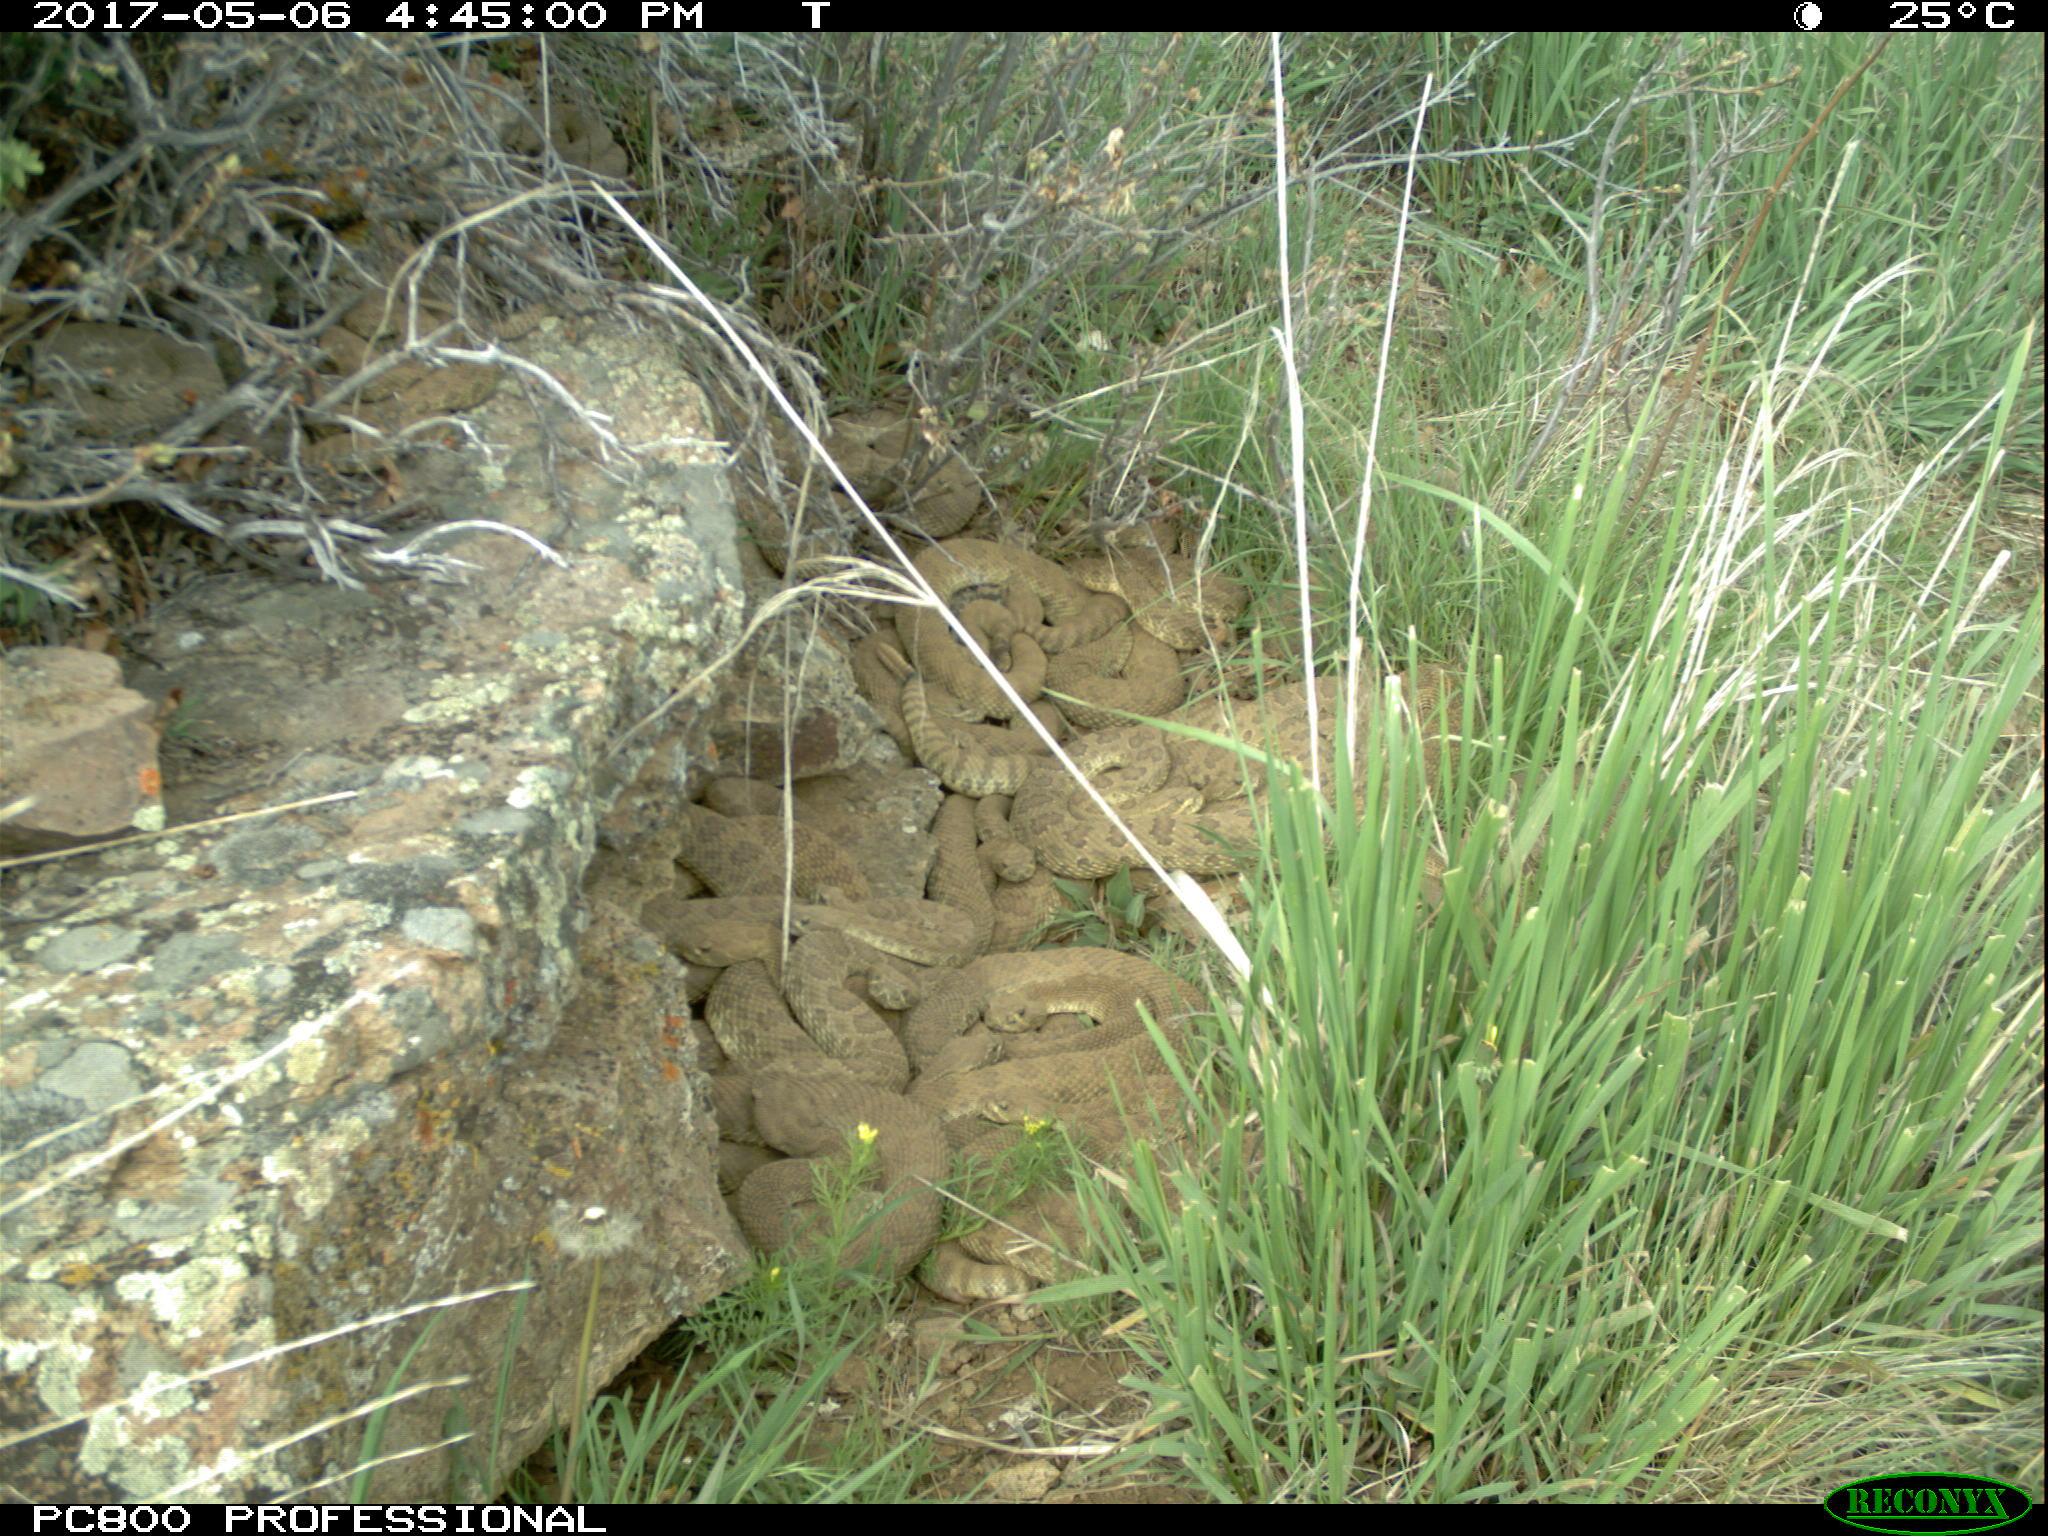snake: (927, 941, 1276, 1312), (1013, 671, 1463, 874), (698, 962, 951, 1292), (887, 536, 1205, 784), (653, 762, 974, 979), (303, 292, 514, 458), (814, 416, 990, 545)
